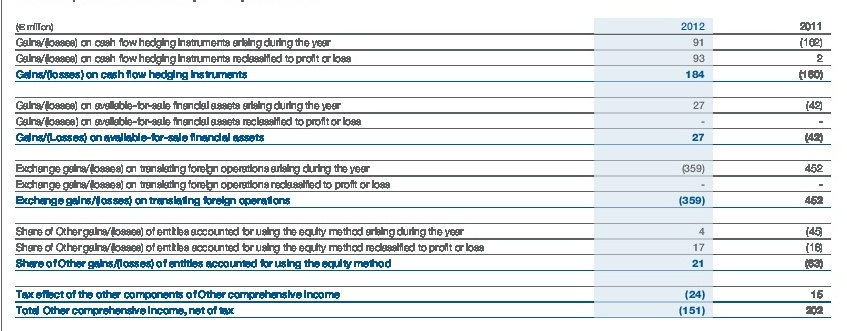table: (0, 0, 847, 331)
